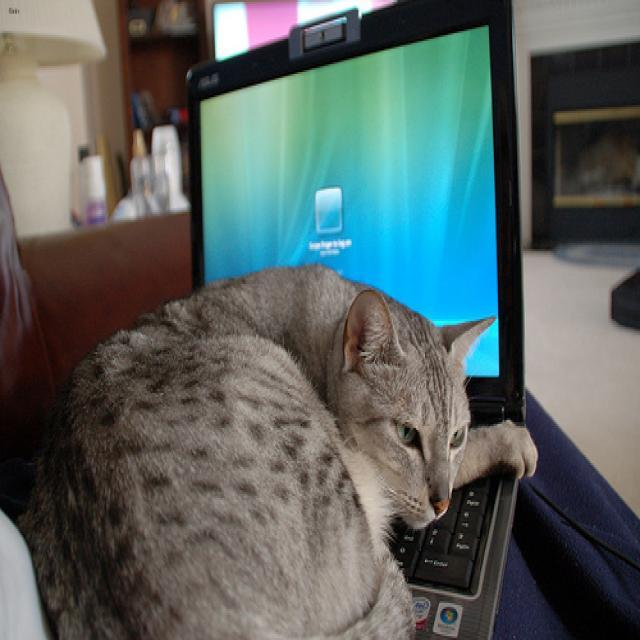Egyptian_Mau: (321, 287, 497, 535)
